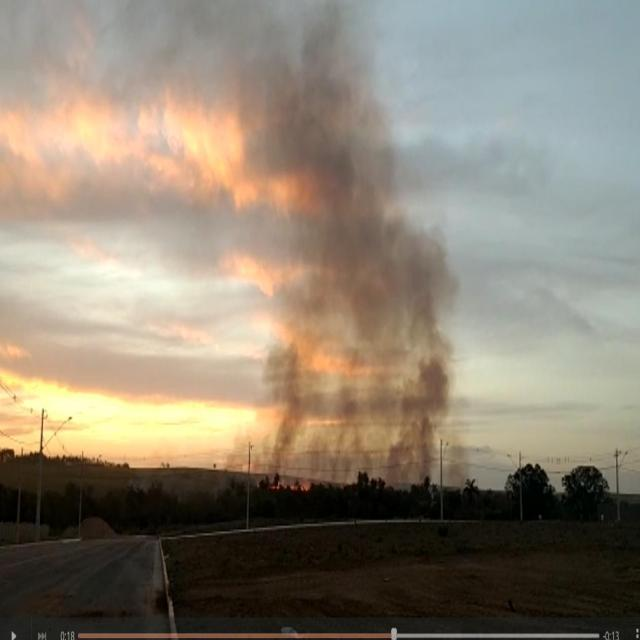Fire: (272, 479, 280, 491), (300, 482, 310, 491), (290, 481, 297, 491)
